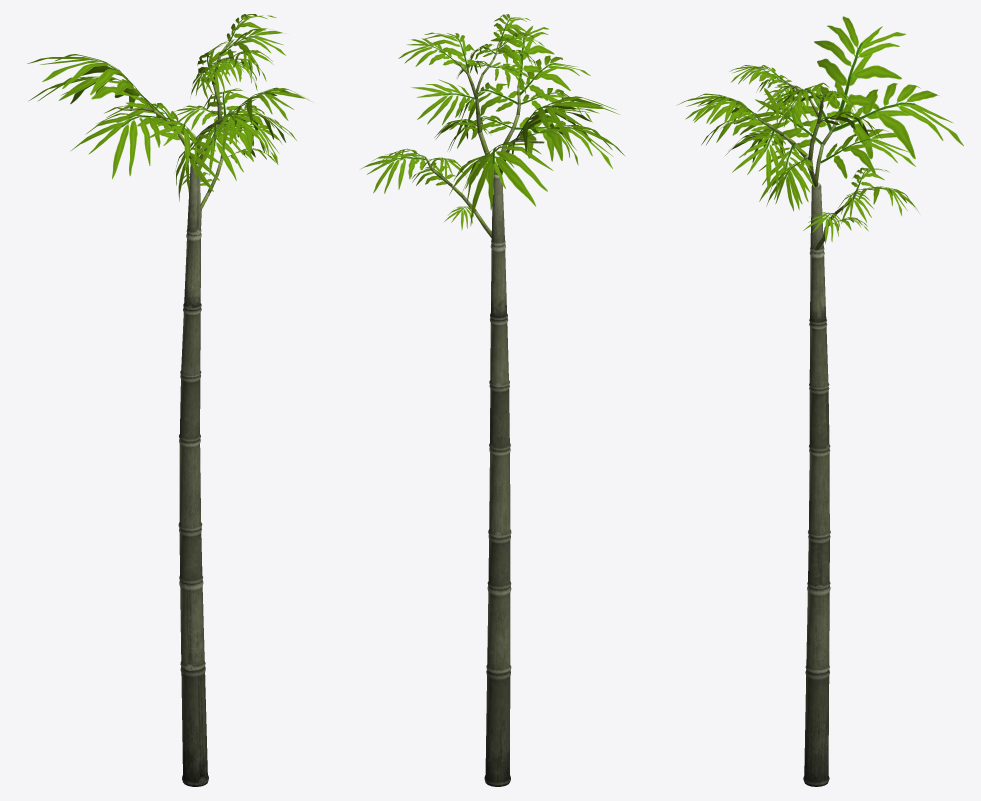
The model's file is bamboo-culm.glb.
3 views of the same model, side by side, from view 1: azimuth 30°, elevation 25°; view 2: azimuth 150°, elevation 25°; view 3: azimuth 270°, elevation 25° (orthographic). The views are drawn at different scales.
Parts seen in each view (by area): view 1: bamboo-culm; view 2: bamboo-culm; view 3: bamboo-culm.
Part boxes in pixels (left/top/right/bottom): bamboo-culm: left=27, top=14, right=311, bottom=786; bamboo-culm: left=360, top=14, right=625, bottom=786; bamboo-culm: left=677, top=16, right=963, bottom=786.
Bounding box in the file's own units: 5.13 × 14.3 × 5.36.
3 materials, 3 textured.
